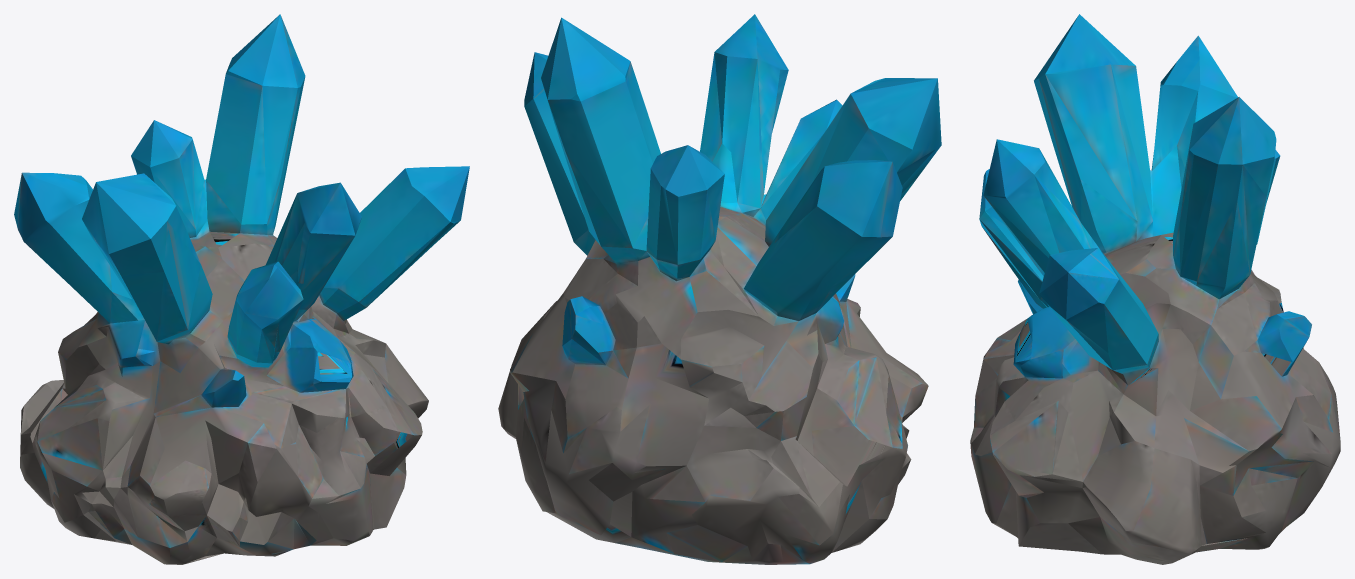
Rendered from crystal-cluster.low.glb.
The picture shows the model from 3 angles, left to right: view 1: azimuth 30°, elevation 25°; view 2: azimuth 150°, elevation 25°; view 3: azimuth 270°, elevation 25°; orthographic projection. The views are drawn at different scales.
Parts seen in each view (by area): view 1: output_unwrapped; view 2: output_unwrapped; view 3: output_unwrapped.
Part boxes in pixels (left/top/right/bottom): output_unwrapped: left=14, top=14, right=469, bottom=564; output_unwrapped: left=498, top=14, right=941, bottom=564; output_unwrapped: left=970, top=14, right=1340, bottom=564.
Size of the model in its own units: 1.76 by 1.9 by 1.41.
1 material, 1 textured.
